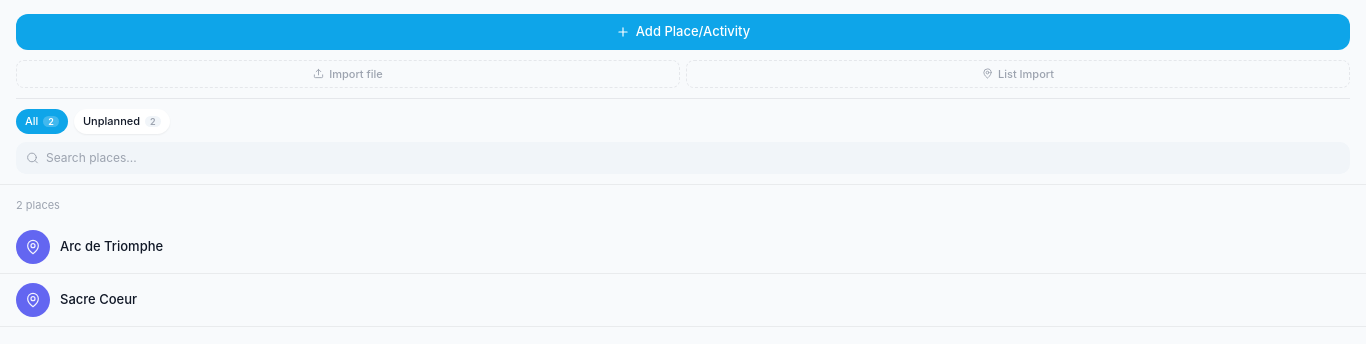
PlacesSidebar › FE-COMP-PLACES-007: search filters places by name
Type "Arc" into the field with placeholder "Search places...".
click(683, 158); type("Arc")  # box top-left (16, 142), bottom-right (1350, 174)
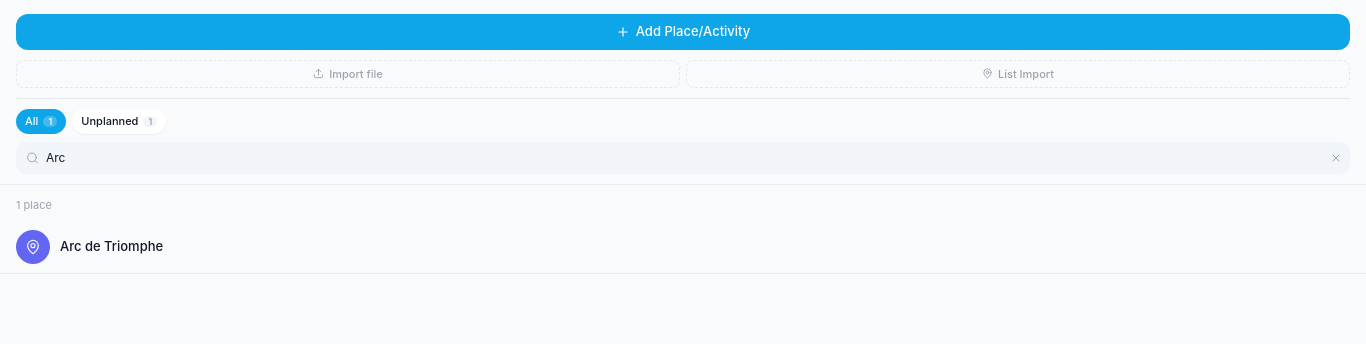
Expected: the text "Arc de Triomphe" is shown, top-left (60, 239), bottom-right (163, 254)
Result: the text "Sacre Coeur" is gone
